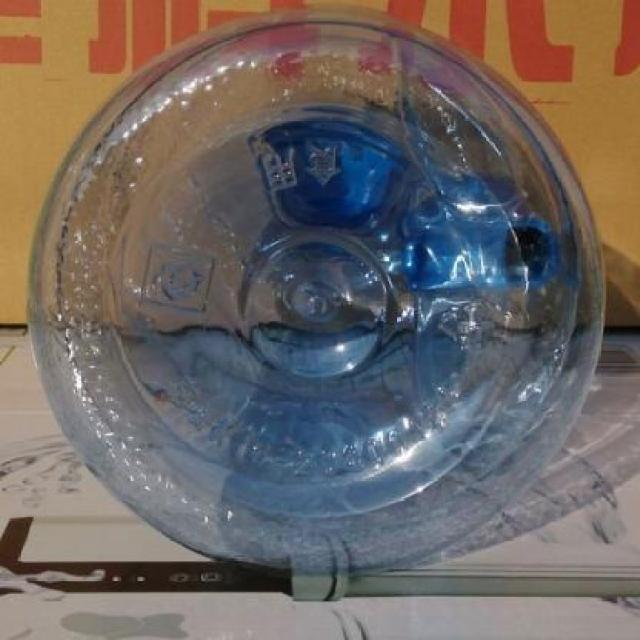coolerbottle: (29, 1, 613, 588)
